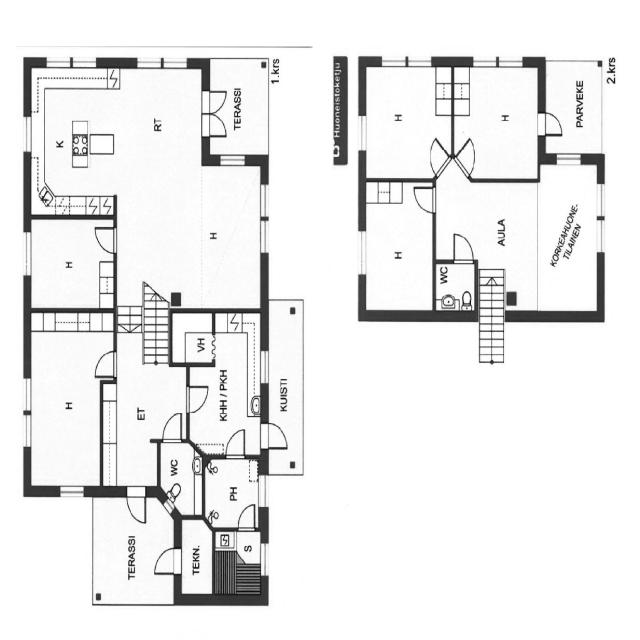door: (198, 84, 232, 140), (147, 544, 187, 580), (406, 182, 445, 215), (91, 346, 124, 384), (92, 219, 124, 258), (125, 484, 152, 526), (158, 411, 188, 448), (253, 420, 290, 450), (448, 228, 475, 269), (234, 500, 262, 539), (181, 377, 209, 415), (456, 135, 478, 182), (426, 140, 453, 178), (536, 110, 566, 142), (225, 428, 247, 463)
window: (592, 171, 610, 259), (373, 51, 436, 74), (20, 368, 36, 454), (41, 52, 101, 74), (18, 221, 36, 285), (468, 50, 525, 70), (256, 181, 272, 252), (133, 56, 192, 74), (214, 146, 249, 172), (354, 221, 368, 285), (56, 480, 90, 506), (256, 346, 274, 392), (354, 109, 372, 154), (254, 475, 274, 514), (18, 112, 35, 155), (261, 535, 271, 584), (556, 152, 581, 170)
zone: (28, 68, 202, 213), (123, 167, 263, 310), (16, 303, 115, 503), (453, 52, 544, 186), (354, 175, 439, 318), (360, 59, 456, 182), (16, 209, 121, 312), (542, 154, 600, 328), (439, 186, 539, 274), (202, 454, 266, 534), (155, 438, 206, 519), (435, 260, 477, 318)
